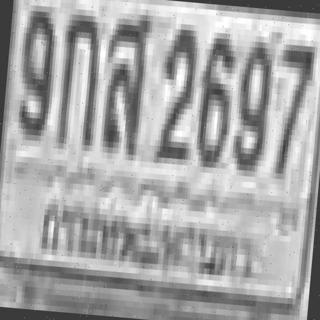A01: (54, 5, 102, 143)
A40: (99, 6, 150, 150)
N02: (154, 20, 197, 156)
N06: (193, 26, 236, 163)
N07: (270, 38, 313, 175)
N09: (15, 0, 58, 136), (229, 35, 271, 166)
P04: (34, 185, 265, 297)
